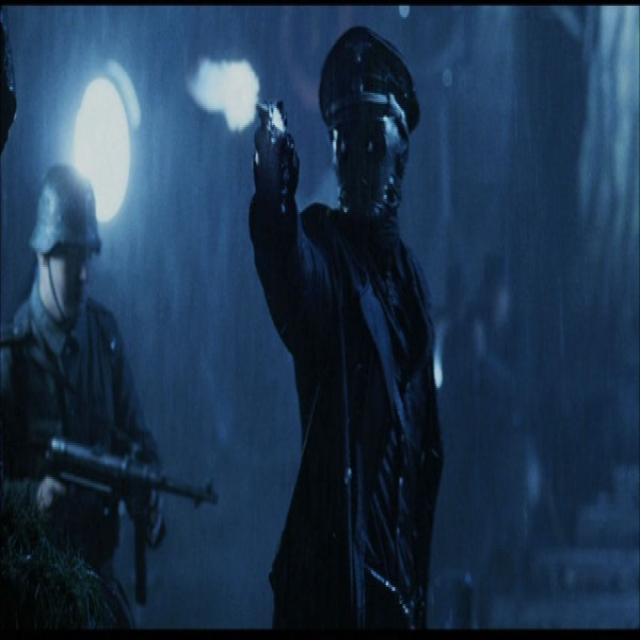rifle: (45, 435, 223, 617)
